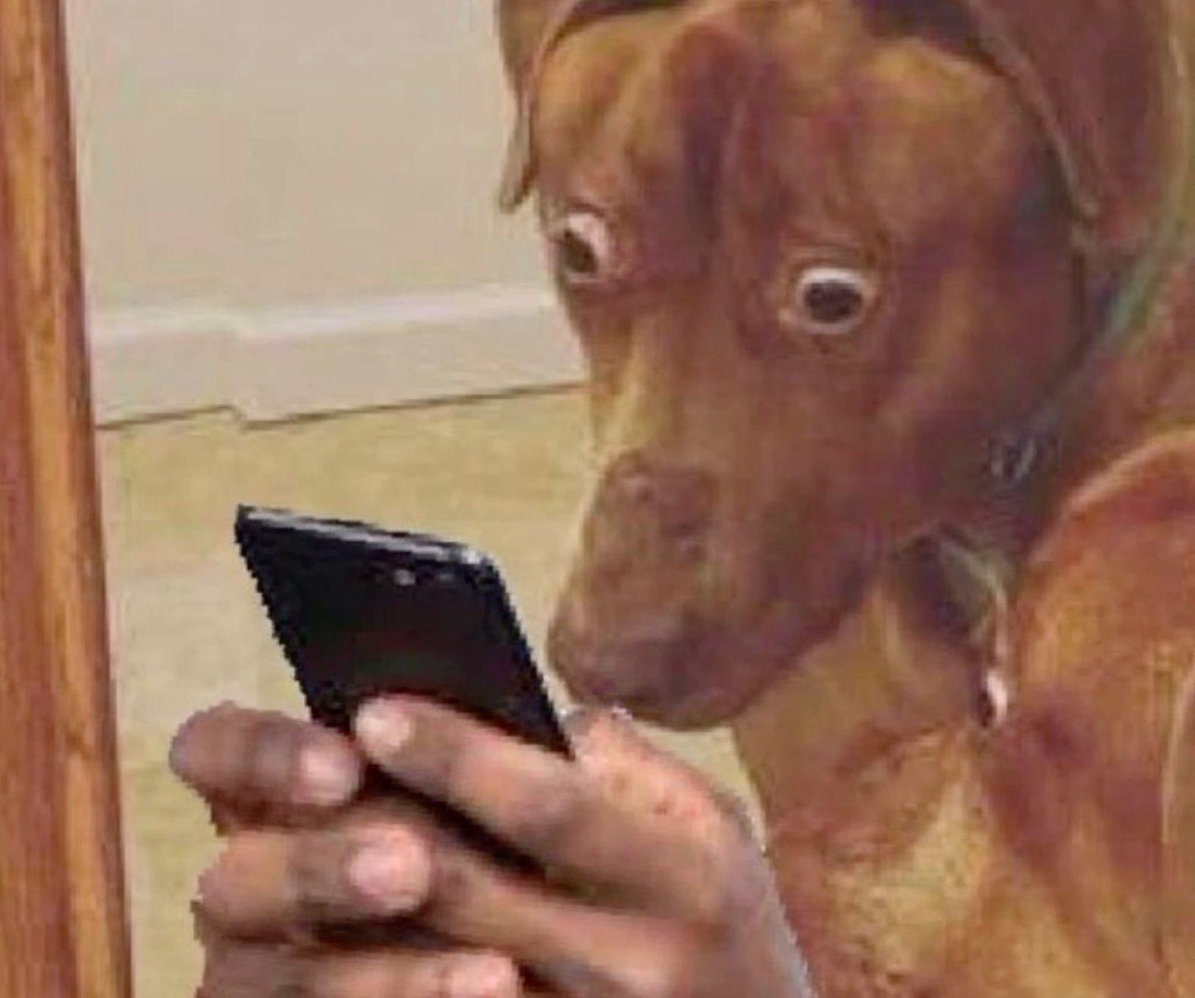adult_dog: (491, 2, 1195, 998)
